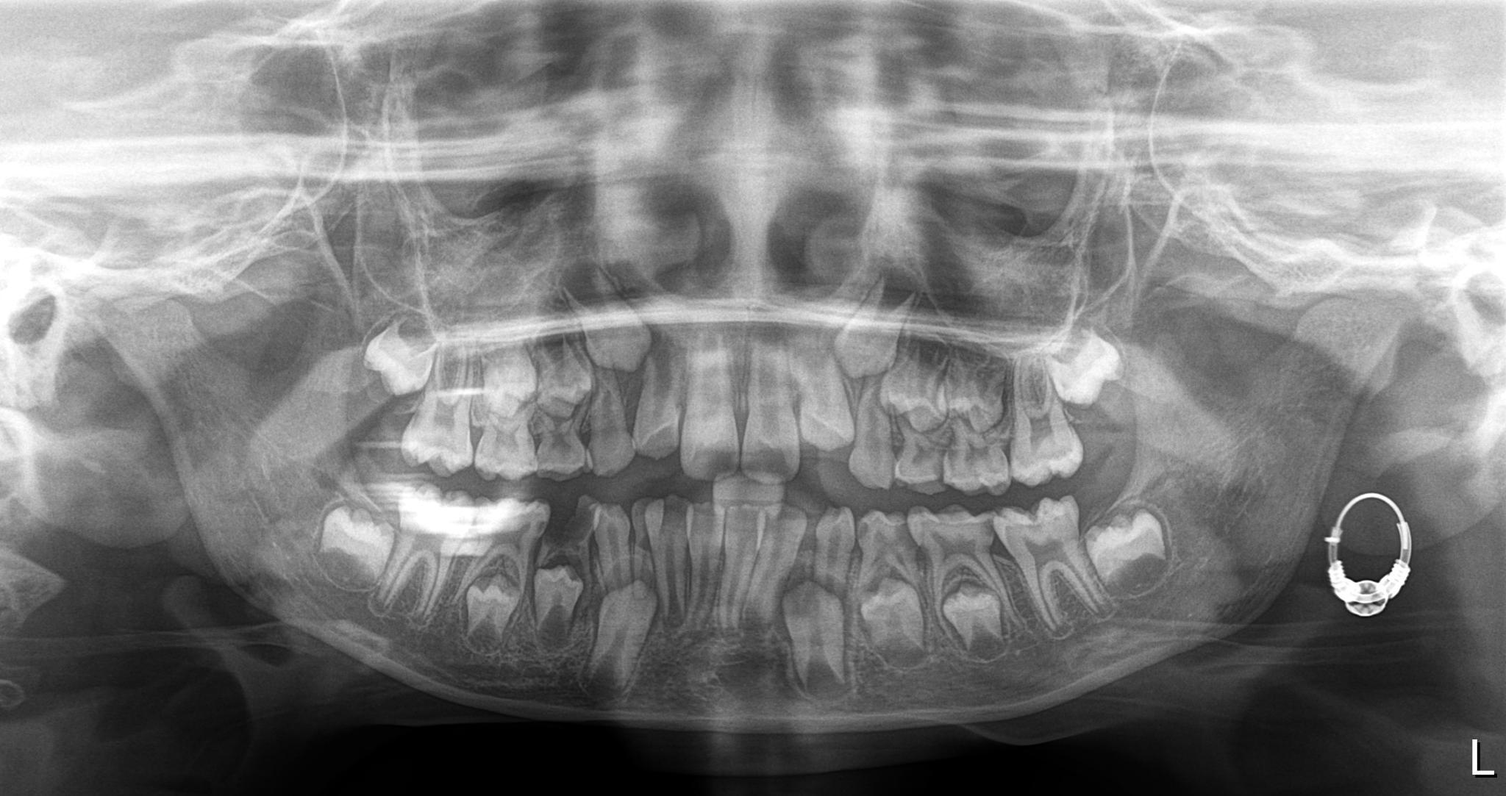Dental Caries: (535, 511, 601, 585)
